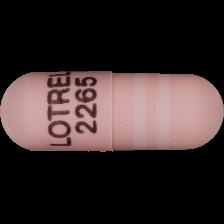54868-4074: (0, 0, 224, 224)
